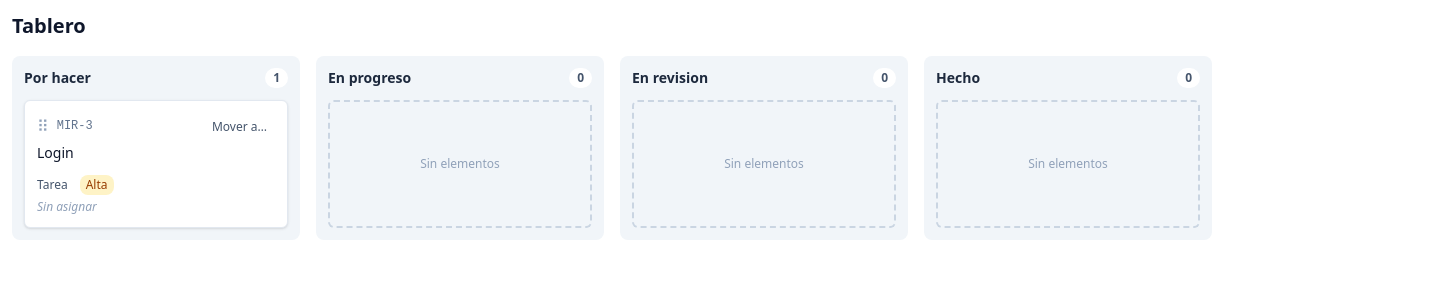
KanbanBoard › mover tarjetas con el menu "Mover a…" (MIR-19) › si la API responde con una falla de red, devuelve la tarjeta a su columna y muestra el error
The width and height of the screenshot is (1452, 305).
Click the button "Mover a…": click(239, 127) [204,115,275,139]
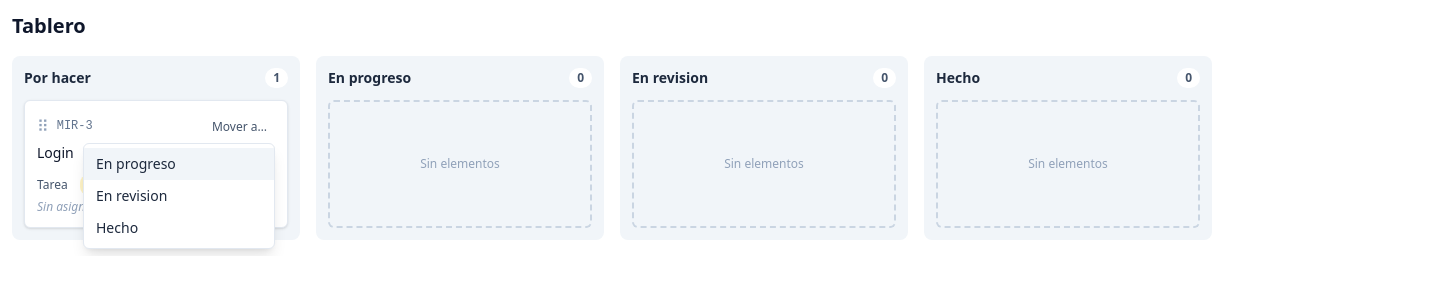
Click the menu item "Hecho": click(179, 228) [84,212,274,244]
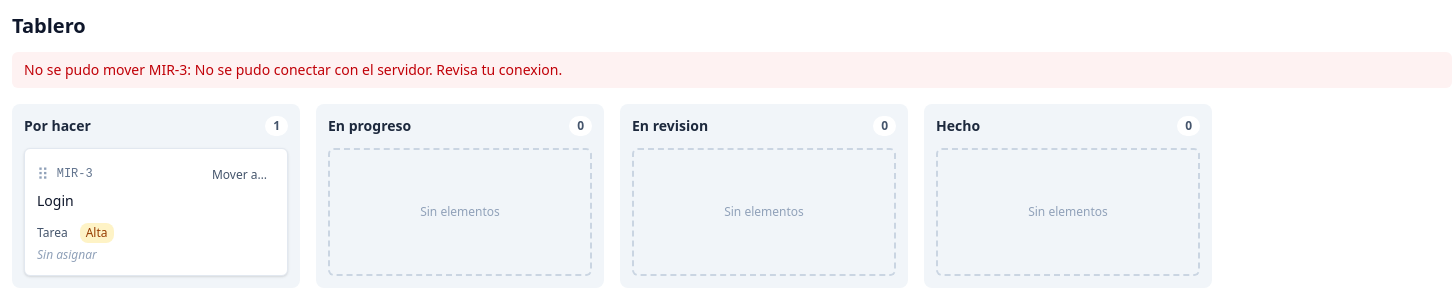
Result: the message shows "No se pudo mover MIR-3" at [12,52,1451,88]
Result: the message shows "No se pudo conectar" at [195,60,562,79]
